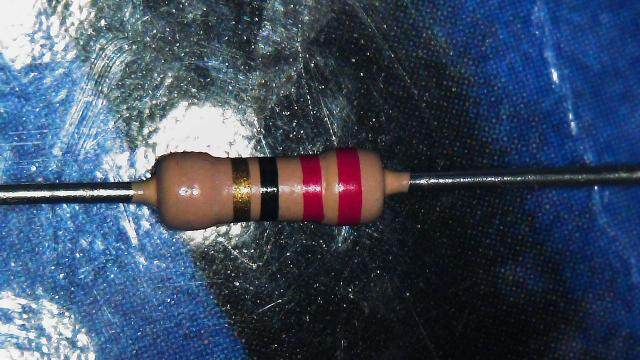black: (260, 156, 278, 219)
gold: (230, 158, 252, 220)
red: (339, 149, 362, 226), (304, 155, 320, 221)
resistor: (128, 134, 414, 241)
